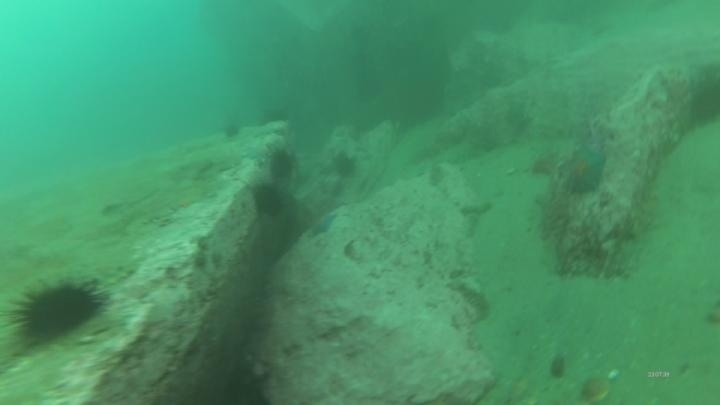echinus: (9, 275, 108, 347), (251, 182, 287, 219), (265, 146, 299, 182), (330, 150, 360, 181), (220, 120, 243, 142)
holothurian: (445, 272, 493, 323)
starfish: (559, 144, 609, 196), (304, 209, 339, 241), (239, 141, 271, 163)
